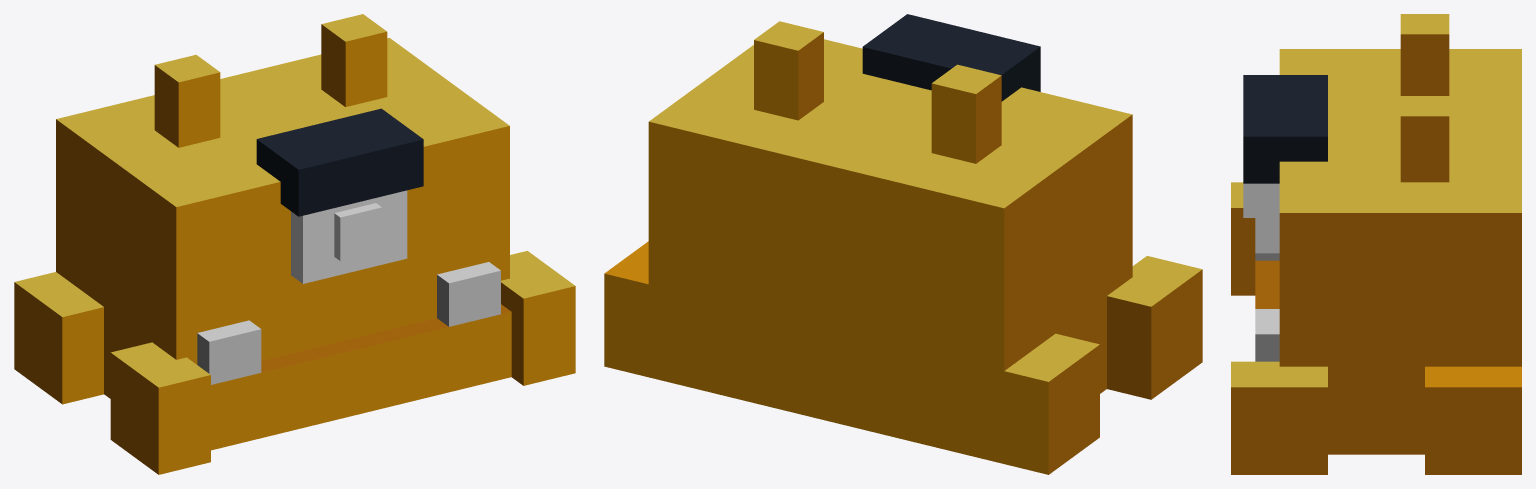
File: EN_BigBit_Yellow.fbx
3 views of the same model, side by side, from view 1: azimuth 30°, elevation 25°; view 2: azimuth 150°, elevation 25°; view 3: azimuth 270°, elevation 25° (orthographic). The views are drawn at different scales.
Visible parts, largest first — view 1: Body, Jaw, Eyebrow, Feet_F_Right, Antennae, Feet_R_Right, Feet_F_Left, Eye, Pupil; view 2: Body, Antennae, Feet_F_Right, Feet_R_Right, Eyebrow, Feet_R_Left; view 3: Body, Feet_F_Left, Feet_R_Left, Antennae, Eyebrow, Jaw, Feet_F_Right, Eye, Pupil.
Boxes of the visible parts, x1=… form: Body: x1=56, y1=38, x2=509, y2=398; Jaw: x1=197, y1=262, x2=511, y2=450; Eyebrow: x1=256, y1=108, x2=423, y2=216; Feet_F_Right: x1=110, y1=342, x2=210, y2=474; Antennae: x1=154, y1=14, x2=387, y2=147; Feet_R_Right: x1=14, y1=272, x2=103, y2=404; Feet_F_Left: x1=501, y1=251, x2=575, y2=385; Eye: x1=291, y1=190, x2=407, y2=283; Pupil: x1=334, y1=203, x2=381, y2=260; Body: x1=648, y1=39, x2=1132, y2=463; Antennae: x1=754, y1=21, x2=1001, y2=163; Feet_F_Right: x1=1107, y1=256, x2=1202, y2=399; Feet_R_Right: x1=994, y1=333, x2=1099, y2=474; Eyebrow: x1=862, y1=14, x2=1040, y2=101; Feet_R_Left: x1=604, y1=241, x2=648, y2=377; Body: x1=1279, y1=49, x2=1521, y2=454; Feet_F_Left: x1=1231, y1=361, x2=1327, y2=474; Feet_R_Left: x1=1425, y1=366, x2=1521, y2=474; Antennae: x1=1400, y1=14, x2=1449, y2=182; Eyebrow: x1=1243, y1=75, x2=1327, y2=183; Jaw: x1=1255, y1=253, x2=1279, y2=361; Feet_F_Right: x1=1231, y1=182, x2=1255, y2=295; Eye: x1=1255, y1=183, x2=1279, y2=253; Pupil: x1=1243, y1=183, x2=1255, y2=217.
Size of the model in its own units: 100 by 70 by 60.
